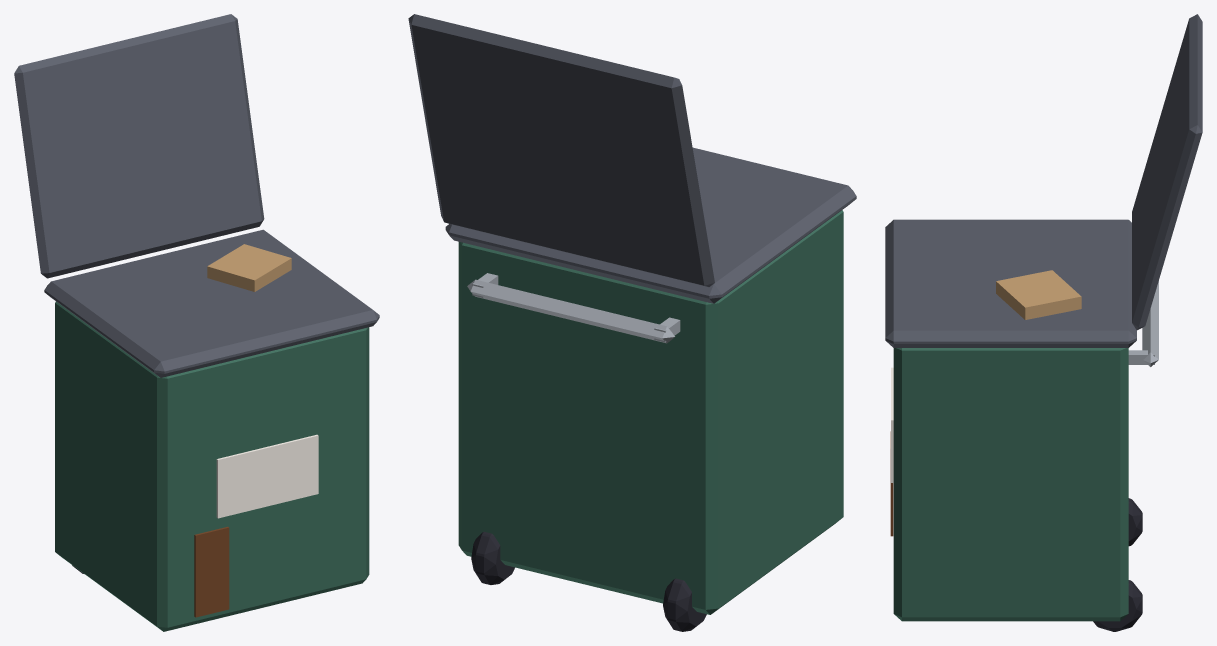
The model's file is CatCafe_Alley_TrashBin.glb.
3 views of the same model, side by side, from view 1: azimuth 30°, elevation 25°; view 2: azimuth 150°, elevation 25°; view 3: azimuth 270°, elevation 25° (orthographic). The views are drawn at different scales.
Parts seen in each view (by area): view 1: CatCafe_Alley_TrashBin_Bin, CatCafe_Alley_TrashBin_Lid; view 2: CatCafe_Alley_TrashBin_Bin, CatCafe_Alley_TrashBin_Lid; view 3: CatCafe_Alley_TrashBin_Bin, CatCafe_Alley_TrashBin_Lid.
Boxes of the visible parts, x1,y1,x2,y2 form: CatCafe_Alley_TrashBin_Bin: [44, 229, 379, 631]; CatCafe_Alley_TrashBin_Lid: [14, 14, 264, 278]; CatCafe_Alley_TrashBin_Bin: [445, 147, 856, 631]; CatCafe_Alley_TrashBin_Lid: [408, 14, 714, 286]; CatCafe_Alley_TrashBin_Bin: [885, 219, 1158, 631]; CatCafe_Alley_TrashBin_Lid: [1132, 14, 1202, 330].
Size of the model in its own units: 2.02 by 4.15 by 2.3.
Materials: 1 (1 with a texture image).
